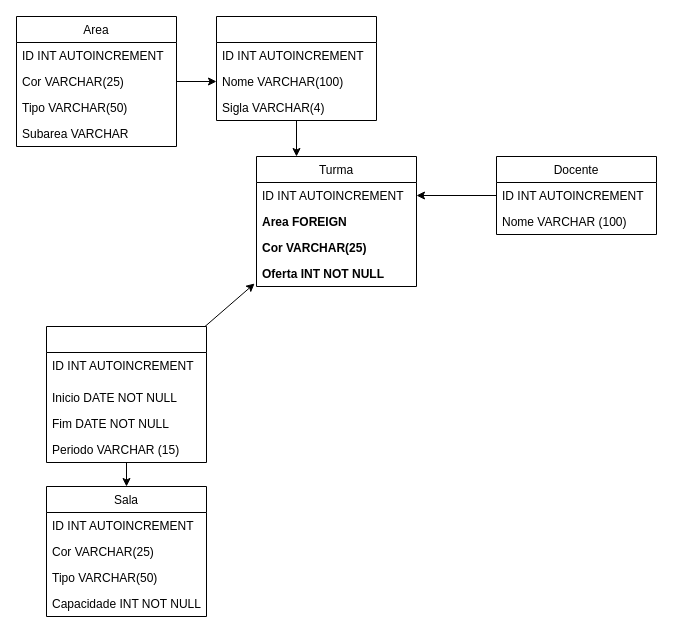
Image size: 673x633. Some labels were removed from this diagram. Each missing label, with the box of its shape:
Curso: (216, 16, 376, 120)
Reserva: (46, 326, 206, 462)
